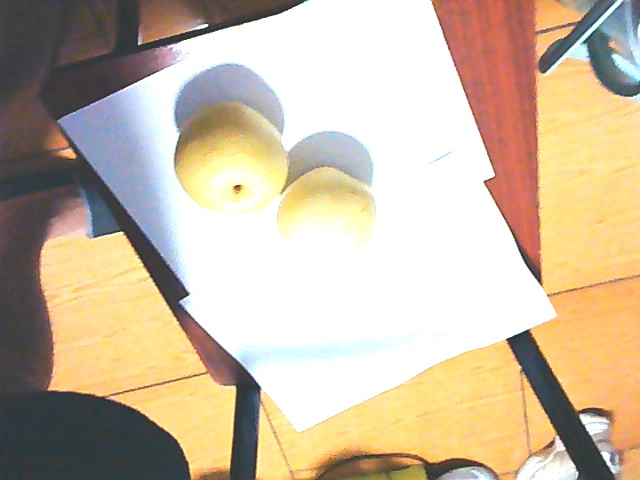pear: (176, 108, 286, 212), (285, 169, 379, 266)
